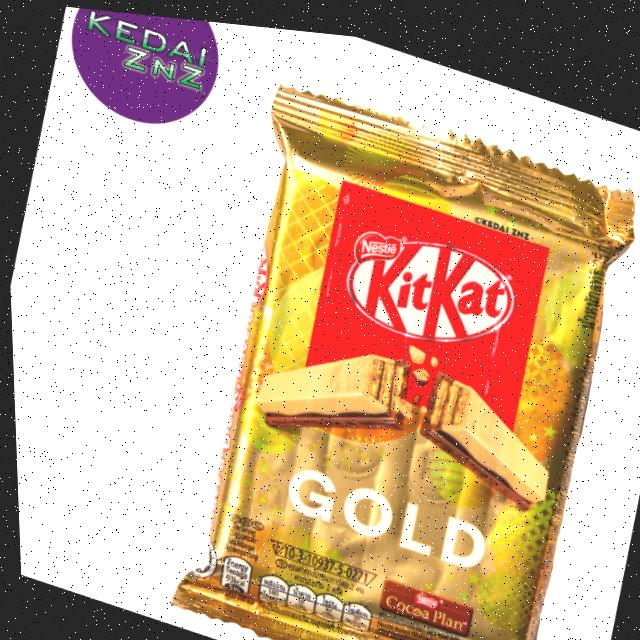kitkat: (151, 64, 640, 640)
